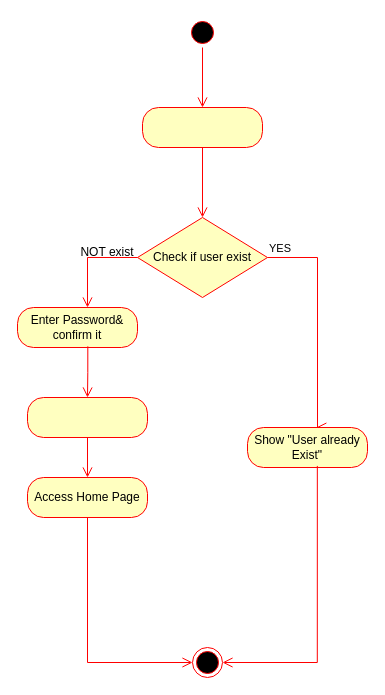
This 385x695 diagram has some shape labels left out. Here are the shapes that lost their labels. From the top down, the centre of each, then its label:
the point at 202,127: Enter Email & Name
the point at 87,417: Show " account Created "
